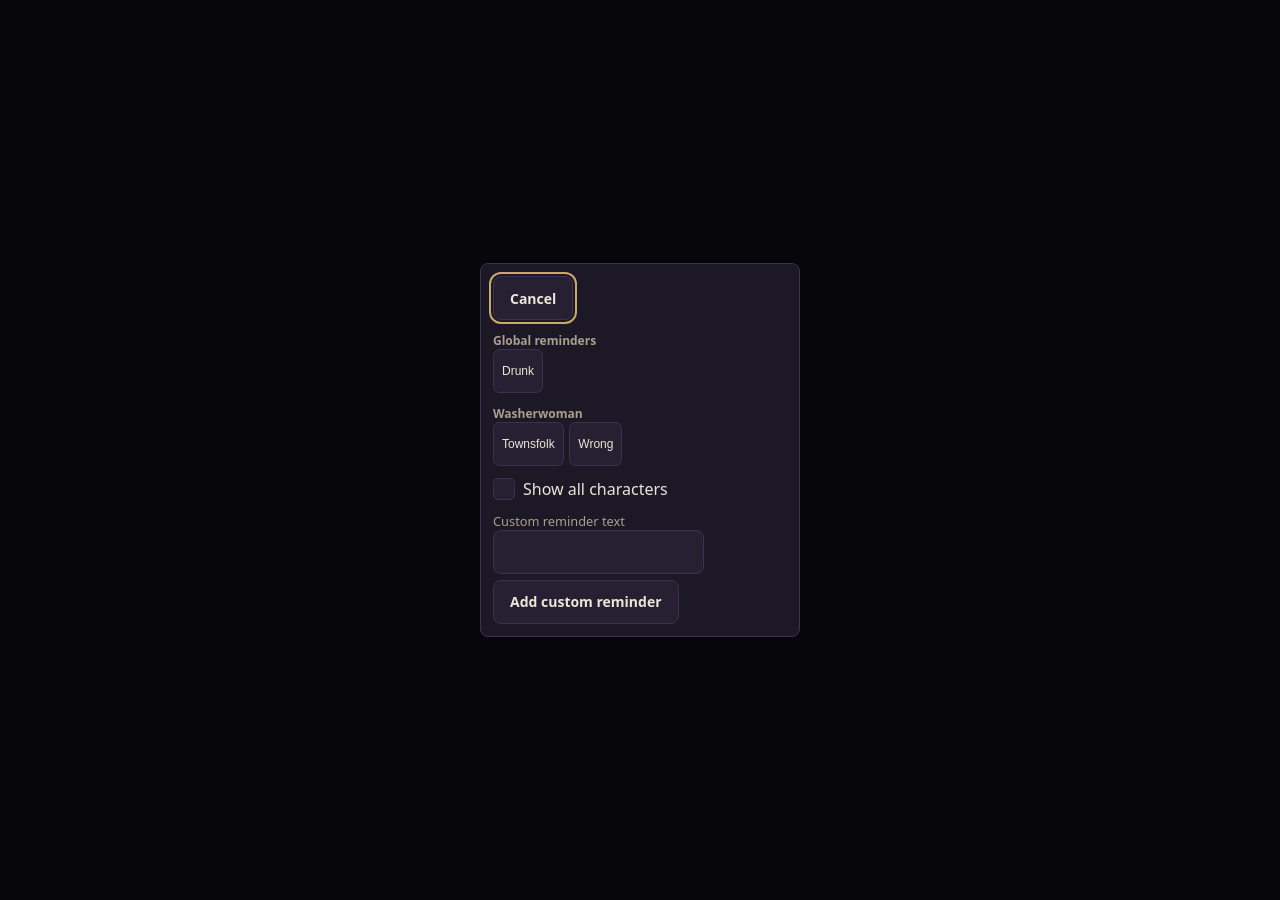
grouping: in-play first, show-all expansion › reveals not-in-play characters once 'show all' is toggled
The width and height of the screenshot is (1280, 900).
Expected: the element "Imp" is not shown
Click the checkbox labelled "Show all characters" at (580, 489), box [493, 478, 668, 500]
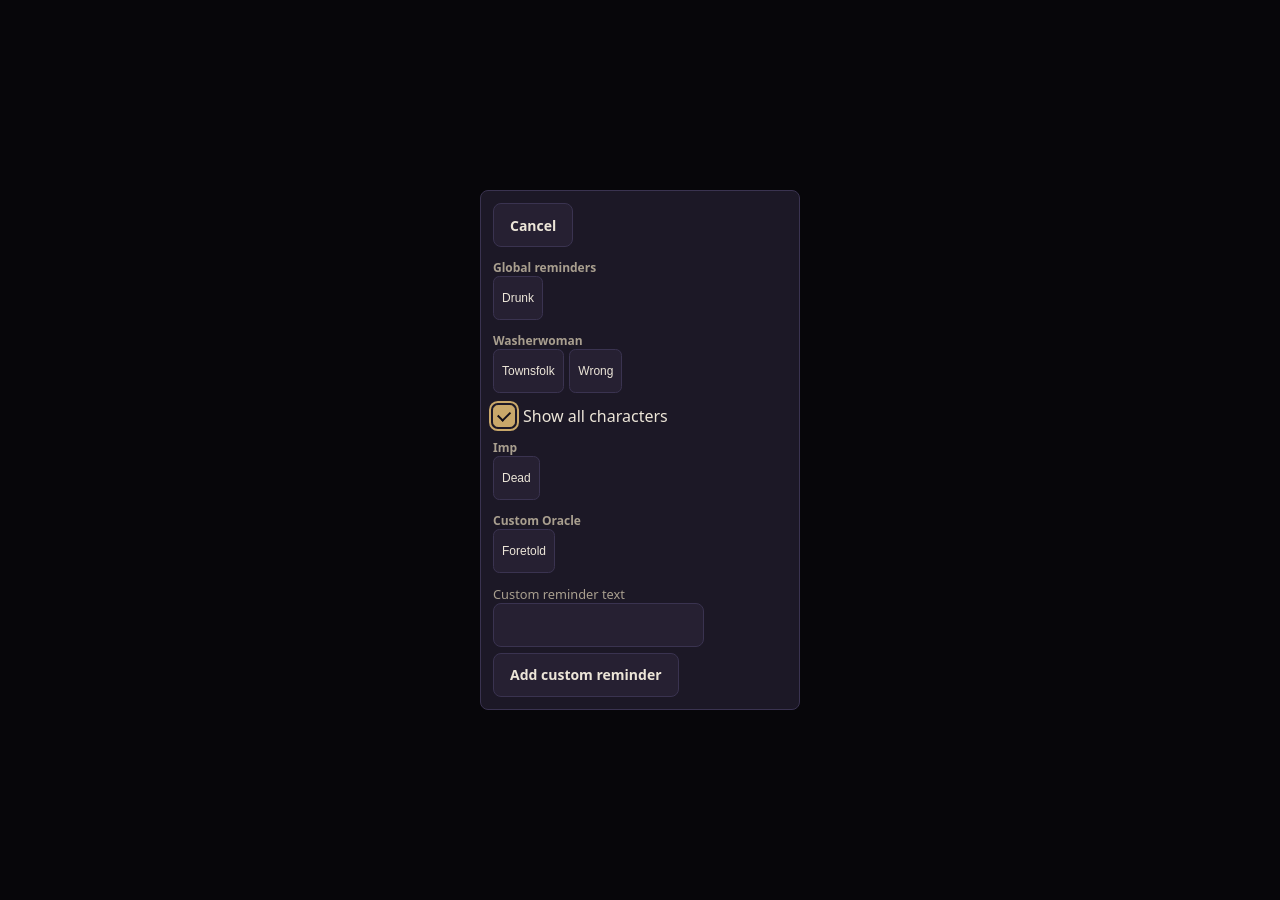
Expected: the element "Imp" is shown, [493, 439, 540, 500]
